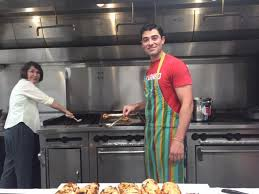Good: (3, 24, 193, 181)
